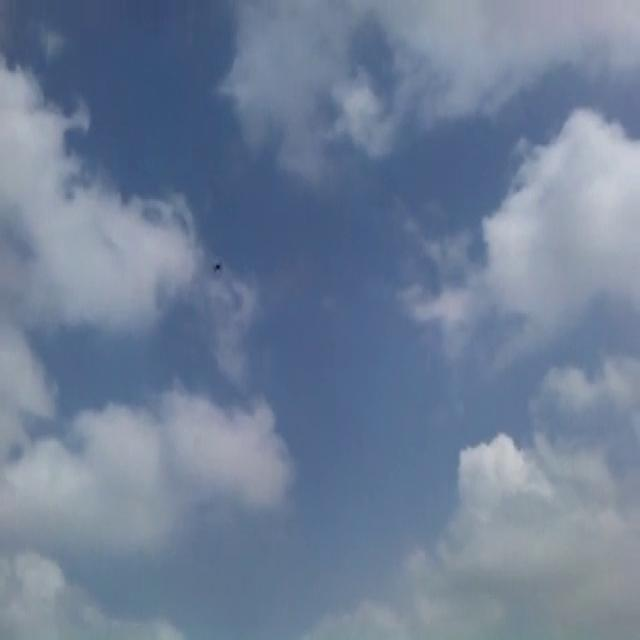drone: (211, 252, 225, 276)
